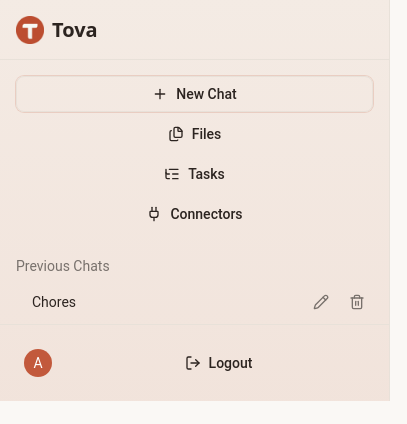
Sidebar — inline chat delete confirm (issue #59) › arms the row on trash click and deletes on Yes
Expected: the text "Sure? Irreversible." is not shown
Click the button named "Delete chat: Chores" at (357, 302), box [341, 286, 373, 318]
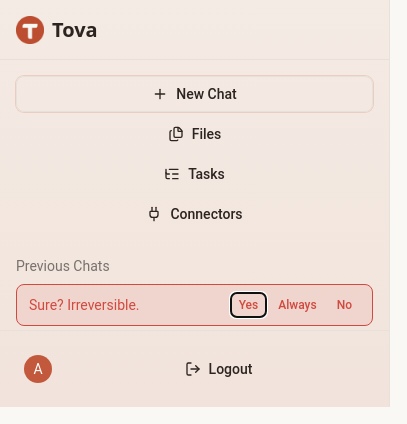
Expected: the text "Sure? Irreversible." is shown, [29, 297, 140, 313]
Click the button with test id "confirm-yes" at (248, 305), box [231, 293, 266, 317]
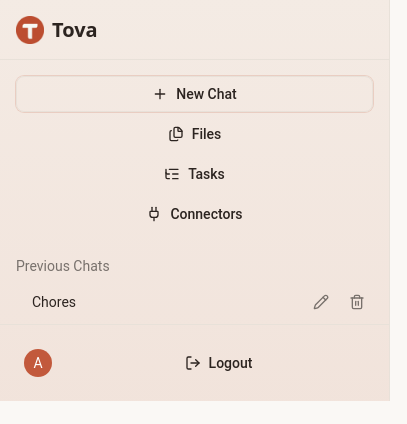
Expected: the text "Sure? Irreversible." is gone
